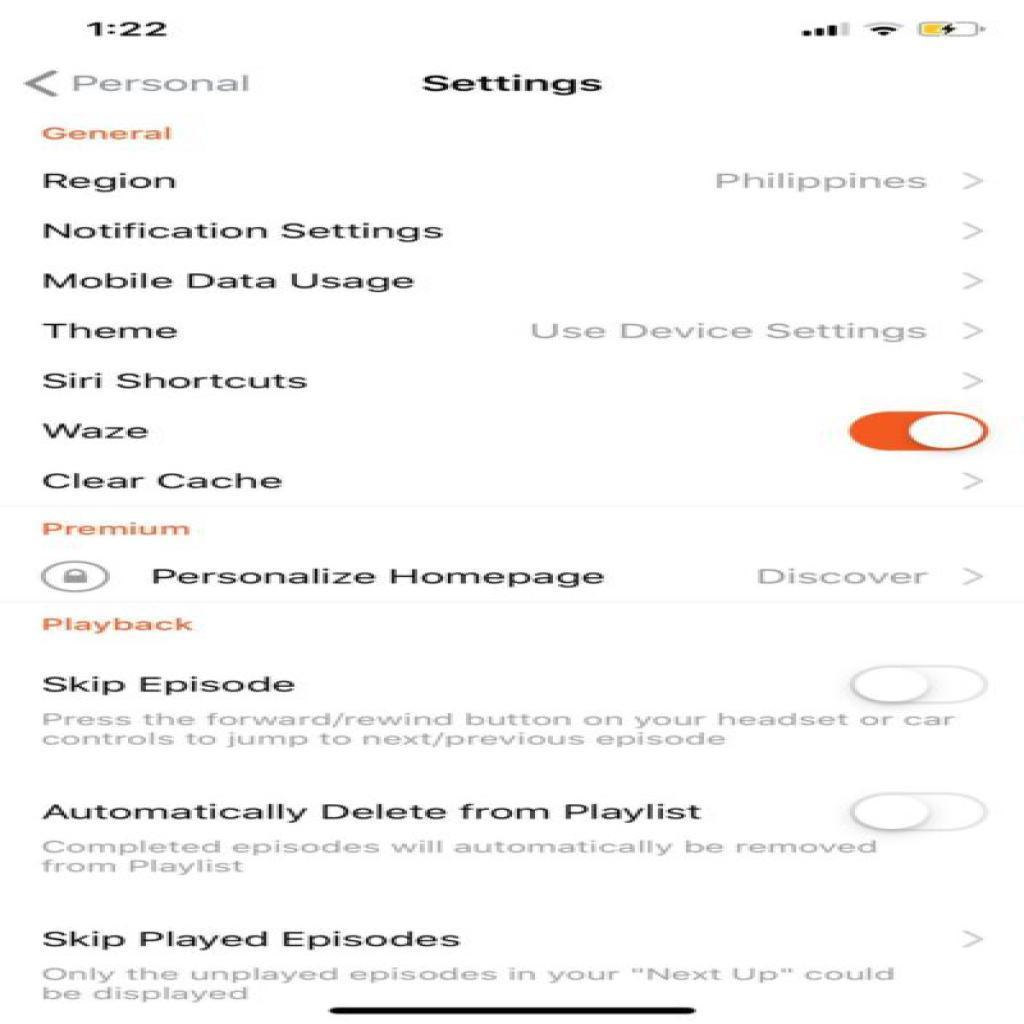icon: (42, 560, 111, 597), (955, 265, 992, 303), (955, 925, 987, 960), (957, 464, 989, 499), (958, 562, 991, 595), (955, 318, 991, 348), (961, 212, 993, 245), (961, 164, 990, 196), (958, 367, 988, 395)
label: (40, 802, 712, 831), (40, 667, 311, 708), (45, 415, 168, 447)
switch: (850, 666, 994, 706), (847, 792, 987, 831), (849, 415, 988, 451)
